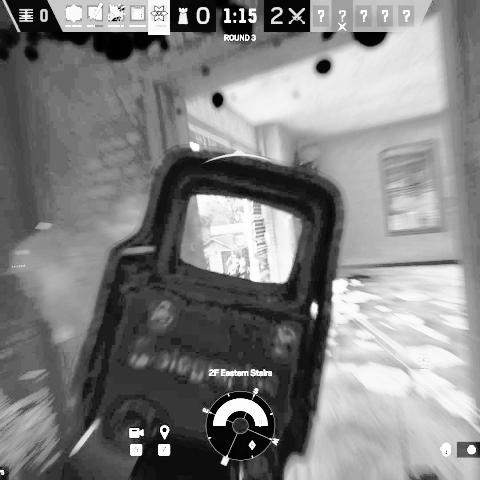Character: (227, 254, 248, 278)
Head: (239, 257, 248, 267)
